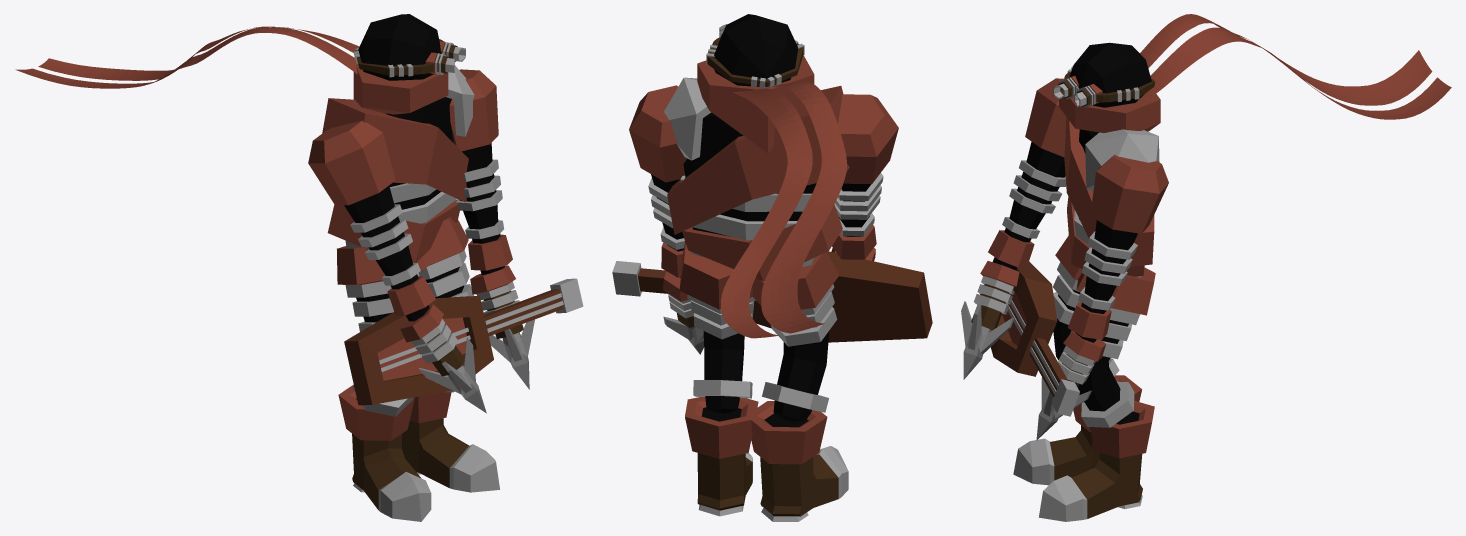
Rendered from Surfer 1.fbx.
The picture shows the model from 3 angles, left to right: view 1: azimuth 30°, elevation 25°; view 2: azimuth 150°, elevation 25°; view 3: azimuth 270°, elevation 25°; orthographic projection. The views are drawn at different scales.
Visible parts, largest first — view 1: Surfer; view 2: Surfer; view 3: Surfer.
Boxes of the visible parts, left/top/right/bottom form: Surfer: left=15, top=14, right=583, bottom=521; Surfer: left=612, top=14, right=932, bottom=521; Surfer: left=961, top=14, right=1451, bottom=521.
Size of the model in its own units: 1.73 by 2.01 by 2.01.
